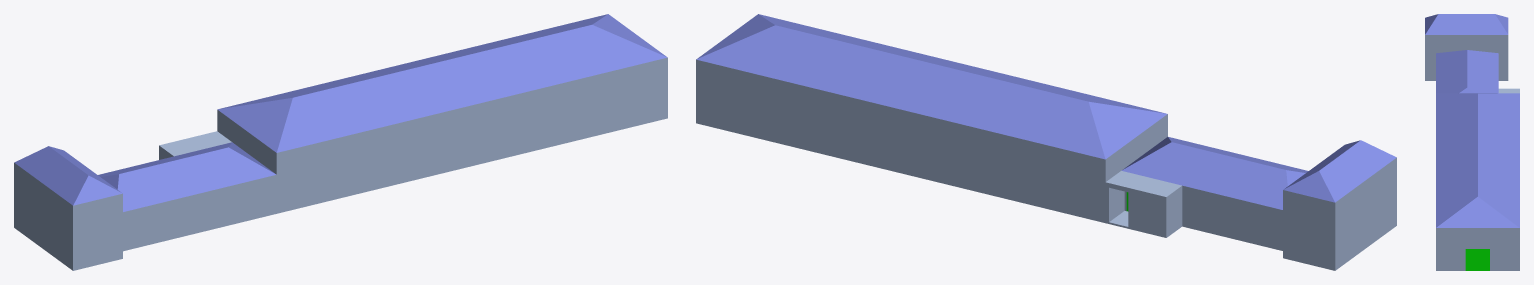
The model's file is Pump_Station_1.glb.
The picture shows the model from 3 angles, left to right: view 1: azimuth 30°, elevation 25°; view 2: azimuth 150°, elevation 25°; view 3: azimuth 270°, elevation 25°; orthographic projection. The views are drawn at different scales.
Parts seen in each view (by area): view 1: Floor1, Roof; view 2: Floor1, Roof; view 3: Roof, Floor1.
Boxes of the visible parts, x1,y1,x2,y2 form: Floor1: (14, 57, 667, 270); Roof: (14, 14, 667, 216); Floor1: (696, 59, 1396, 270); Roof: (696, 14, 1396, 214); Roof: (1425, 14, 1519, 227); Floor1: (1425, 38, 1519, 270).
Bounding box in the file's own units: 72.47 × 9.56 × 13.99.
